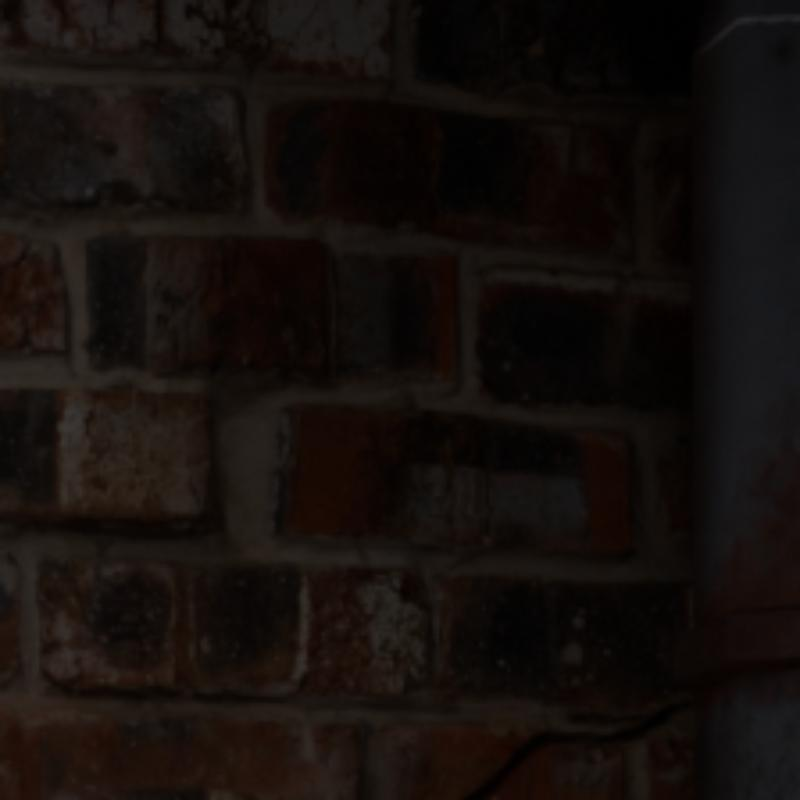pothole: (464, 704, 668, 796)
